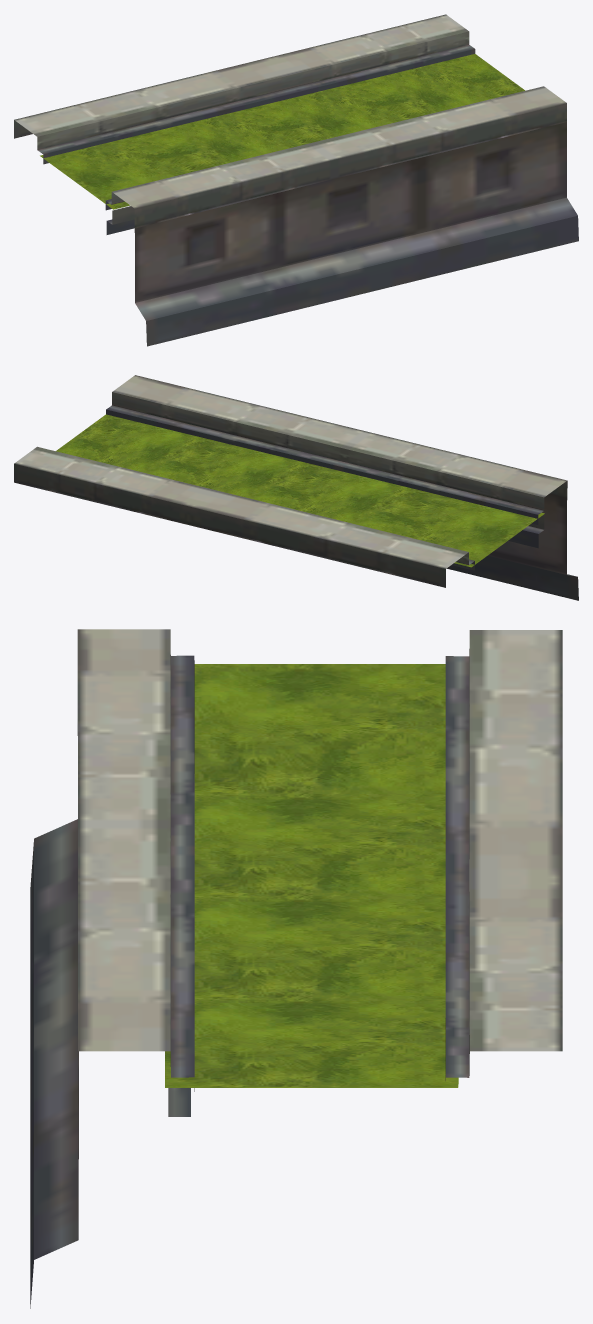
Rendered from S_Build_City133.FBX.
The picture shows the model from 3 angles, top to bottom: view 1: azimuth 30°, elevation 25°; view 2: azimuth 150°, elevation 25°; view 3: azimuth 270°, elevation 25°; orthographic projection. The views are drawn at different scales.
Parts seen in each view (by area): view 1: S_Build_City133; view 2: S_Build_City133; view 3: S_Build_City133.
Part boxes in pixels (x1,y1,x2,y2): S_Build_City133: (14, 14, 578, 346); S_Build_City133: (14, 375, 578, 600); S_Build_City133: (30, 629, 562, 1308).
Bounding box in the file's own units: 848 × 242 × 452.
